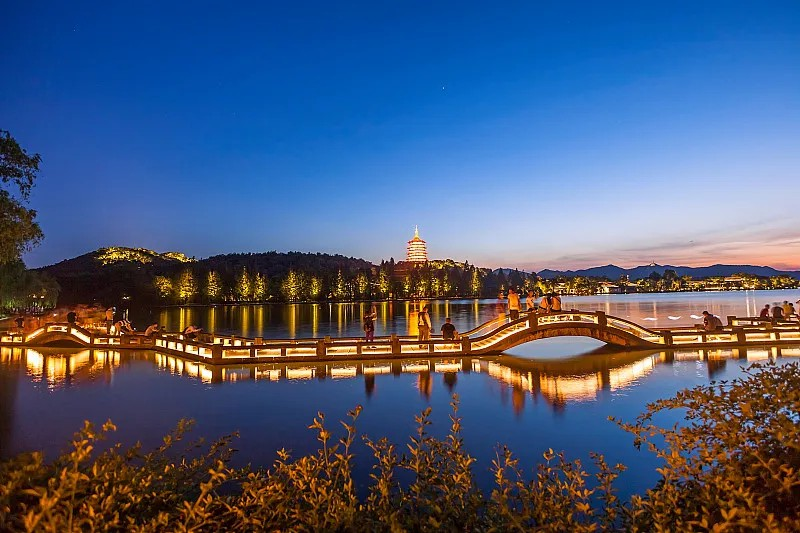Leifeng: (405, 223, 428, 265)
